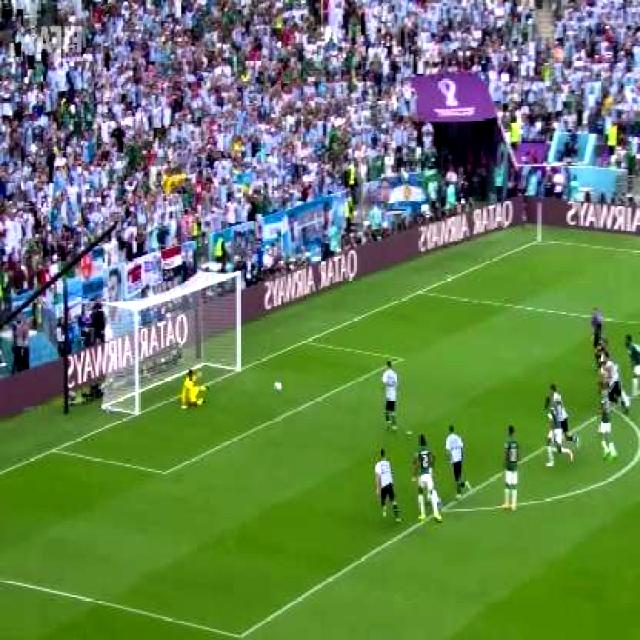bigarea_bottom_inner: (232, 621, 250, 640)
bigarea_top_outter: (416, 285, 426, 297)
bottom_arc_area_intersection: (440, 501, 451, 517)
corner: (535, 236, 548, 244)
smallarea_bottom_inner: (157, 458, 174, 484)
smallarea_bottom_outter: (48, 438, 63, 458)
smallarea_top_inner: (397, 351, 408, 366)
smallarea_top_outter: (302, 334, 312, 348)
